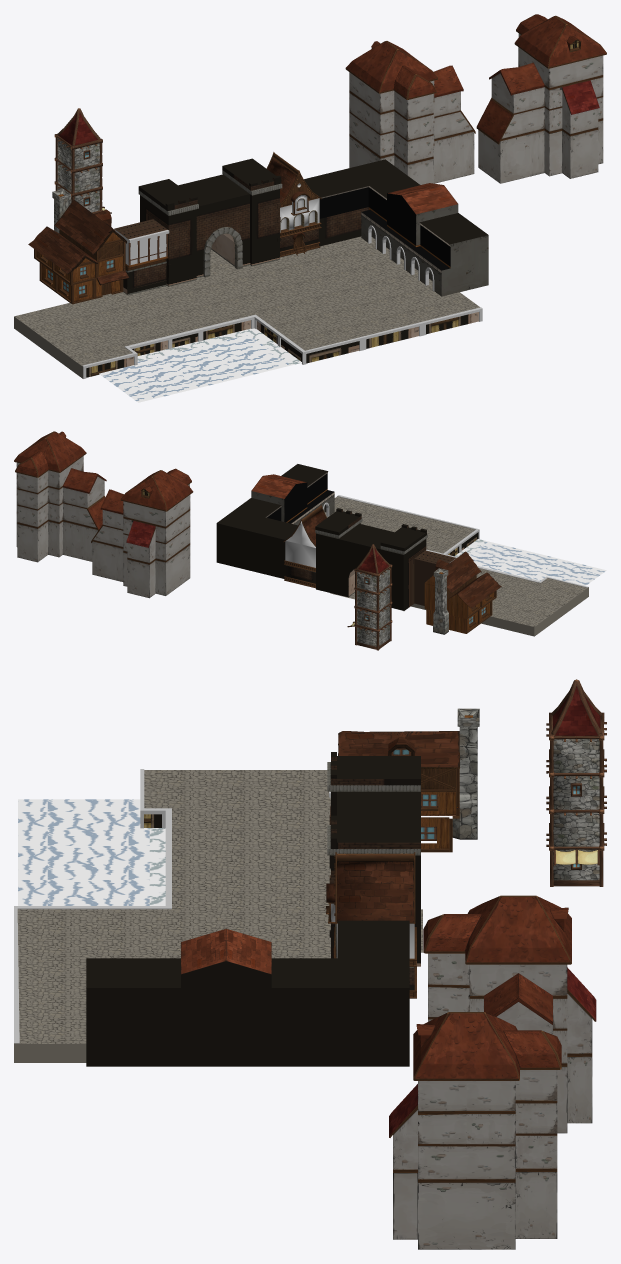
The model's file is dock.fbx.
The picture shows the model from 3 angles, top to bottom: view 1: azimuth 30°, elevation 25°; view 2: azimuth 150°, elevation 25°; view 3: azimuth 270°, elevation 25°; orthographic projection. The views are drawn at different scales.
Parts seen in each view (by area): view 1: Cube, Plane.001, Plane; view 2: Cube, Plane.001; view 3: Cube, Plane.001, Plane.
Boxes of the visible parts, <box> form: Cube: <box>14,14,606,378</box>; Plane.001: <box>99,335,290,402</box>; Plane: <box>137,328,301,365</box>; Cube: <box>14,431,588,650</box>; Plane.001: <box>468,541,606,585</box>; Cube: <box>14,679,606,1249</box>; Plane.001: <box>18,799,149,905</box>; Plane: <box>149,828,165,905</box>.
Size of the model in its own units: 11887 by 2618 by 6385.
